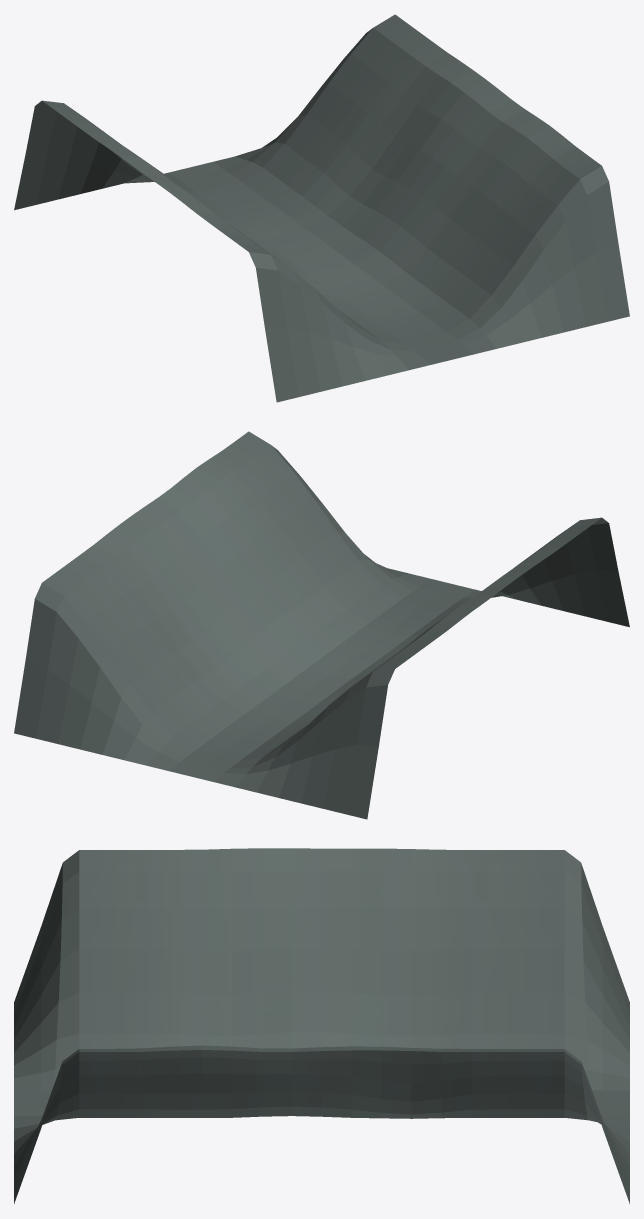
Rendered from floorMountain.fbx.
3 views of the same model, one above another, from view 1: azimuth 30°, elevation 25°; view 2: azimuth 150°, elevation 25°; view 3: azimuth 270°, elevation 25° (orthographic). The views are drawn at different scales.
Parts seen in each view (by area): view 1: Floor_Mountain; view 2: Floor_Mountain; view 3: Floor_Mountain.
Part boxes in pixels (<box>): Floor_Mountain: <box>14,14,629,402</box>; Floor_Mountain: <box>14,431,629,819</box>; Floor_Mountain: <box>14,848,629,1203</box>.
Size of the model in its own units: 6000 by 2142 by 7725.
Materials: 1 (1 with a texture image).
